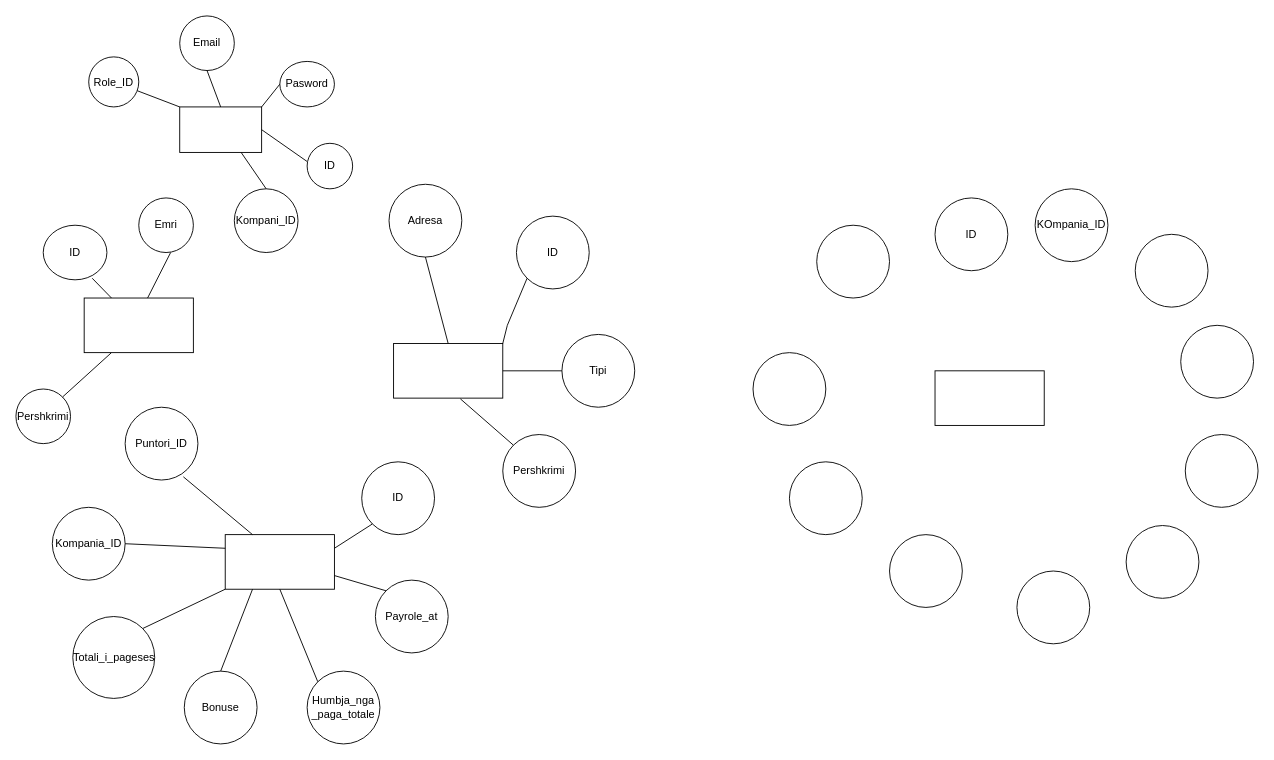
Some shapes in this 1274 by 760 pixel diagram are drawn without their labels. The centre of each missing label's shape, as x and y in pixels:
"Kompania" goes at point (448, 370).
"Kontrata" goes at point (989, 397).
"Listapagave" goes at point (279, 561).
"Perdoruesi" goes at point (220, 129).
"Roli" goes at point (138, 325).
